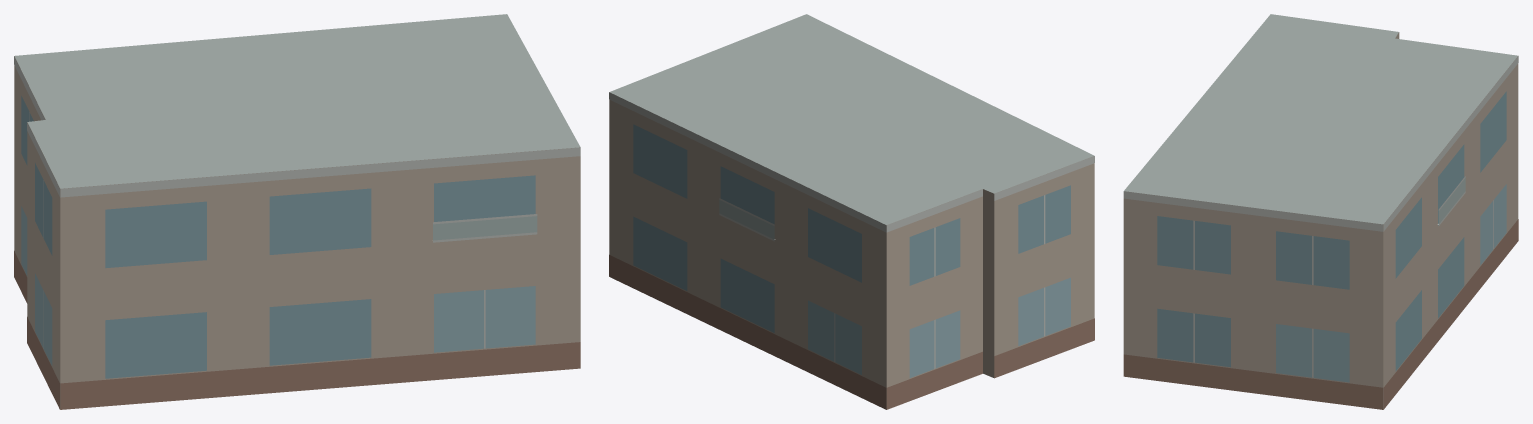
The model's file is survey-upis-32712221.glb.
The picture shows the model from 3 angles, left to right: view 1: azimuth 30°, elevation 25°; view 2: azimuth 150°, elevation 25°; view 3: azimuth 270°, elevation 25°; orthographic projection. The views are drawn at different scales.
Visible parts, largest first — view 1: survey-upis-32712221.tmp; view 2: survey-upis-32712221.tmp; view 3: survey-upis-32712221.tmp.
Boxes of the visible parts, x1=… form: survey-upis-32712221.tmp: x1=14, y1=14, x2=580, y2=409; survey-upis-32712221.tmp: x1=609, y1=14, x2=1094, y2=409; survey-upis-32712221.tmp: x1=1123, y1=14, x2=1518, y2=409.
Size of the model in its own units: 14.86 by 6.1 by 11.78.
